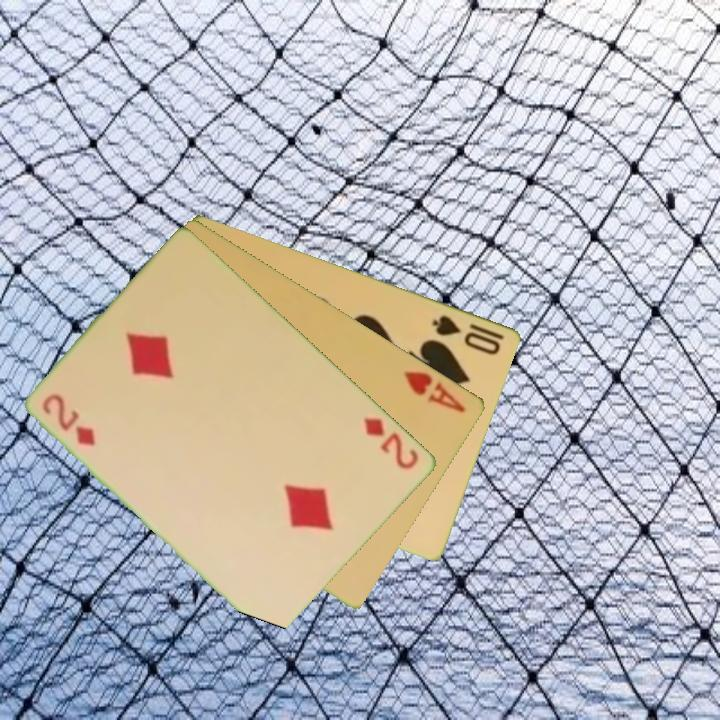10s: (429, 311, 504, 358)
2d: (39, 389, 99, 449), (361, 414, 422, 473)
Ah: (401, 367, 469, 416)
